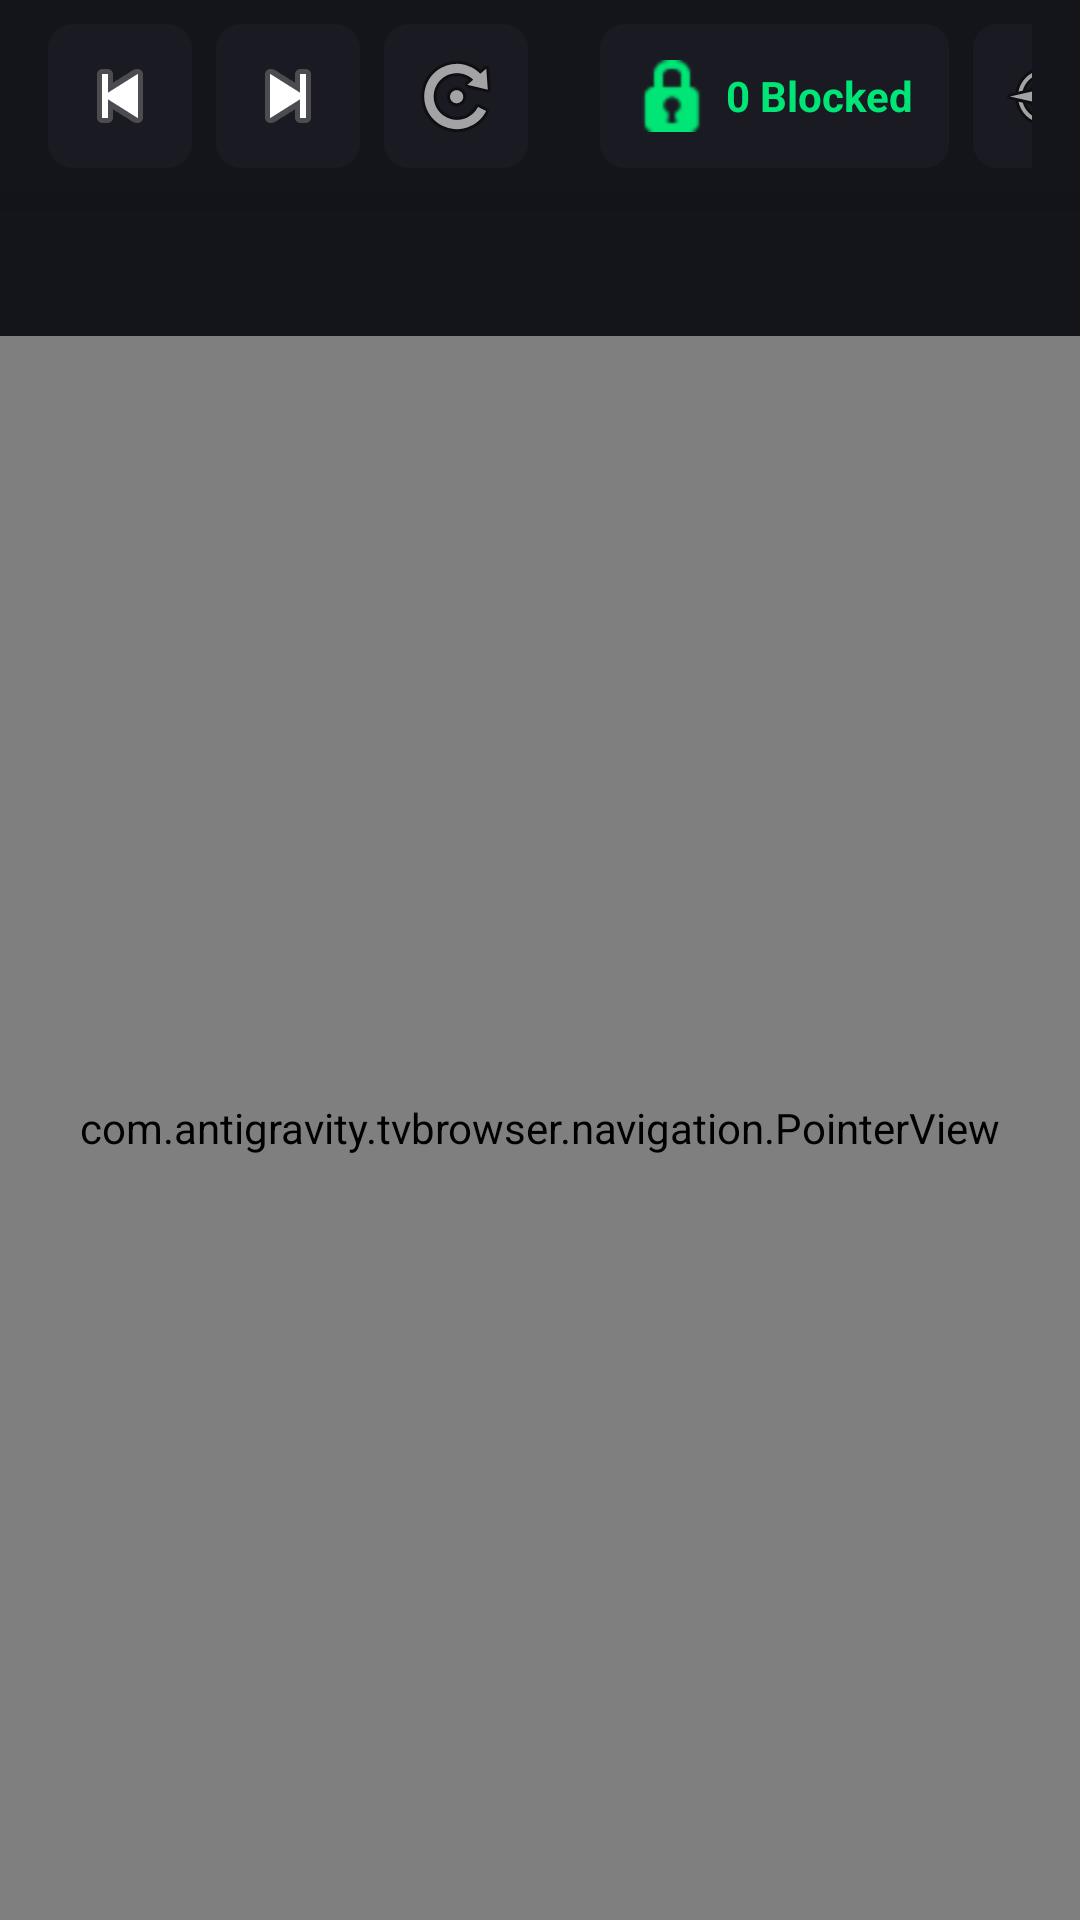

Named icons in this screenshot (1080px x 1920px) and their centers, [x,y]:
Back: [120,96]
Forward: [288,96]
Refresh: [456,96]
secure: [671,96]
